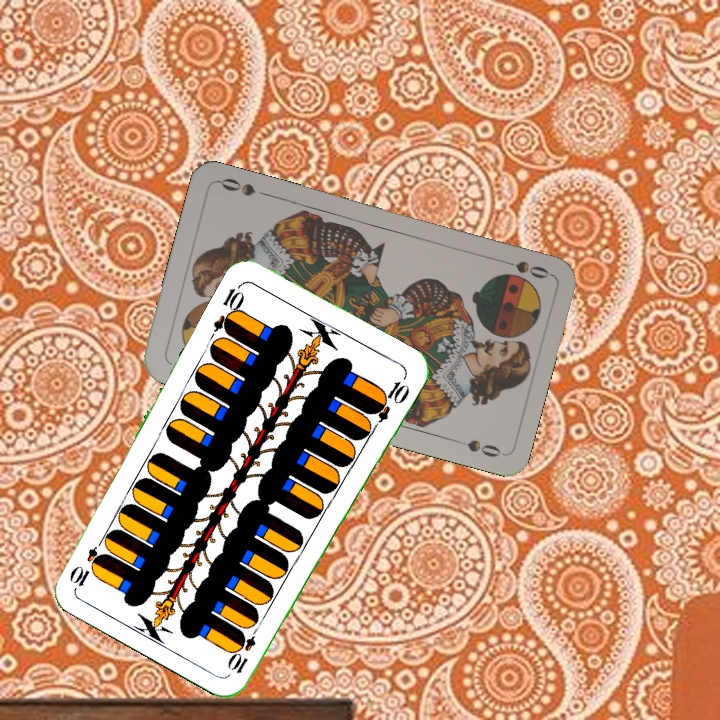E10: (209, 279, 247, 337), (225, 620, 263, 677)
SO: (494, 255, 552, 282)
